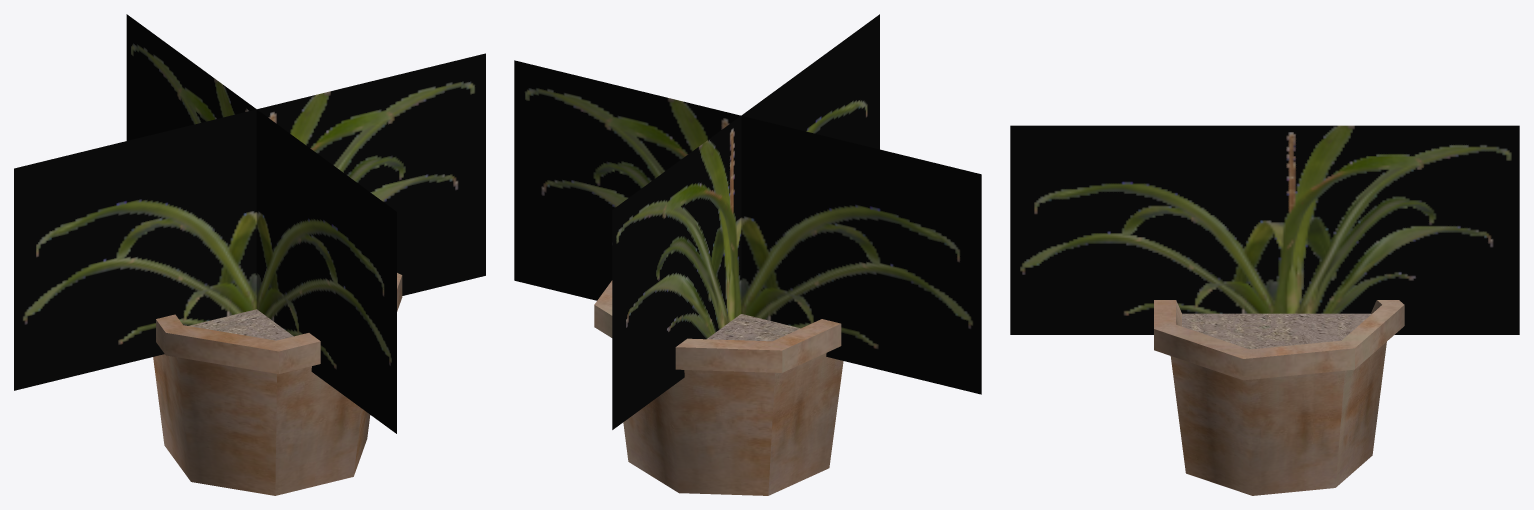
File: Plants_05.glb
3 views of the same model, side by side, from view 1: azimuth 30°, elevation 25°; view 2: azimuth 150°, elevation 25°; view 3: azimuth 270°, elevation 25° (orthographic). The views are drawn at different scales.
Parts seen in each view (by area): view 1: Plants_05; view 2: Plants_05; view 3: Plants_05.
Part boxes in pixels (bbox=[...]): Plants_05: bbox=[14, 14, 485, 495]; Plants_05: bbox=[514, 14, 981, 495]; Plants_05: bbox=[1010, 125, 1519, 495].
Size of the model in its own units: 1.05 by 0.7311 by 1.04.
Materials: 2 (2 with a texture image).
